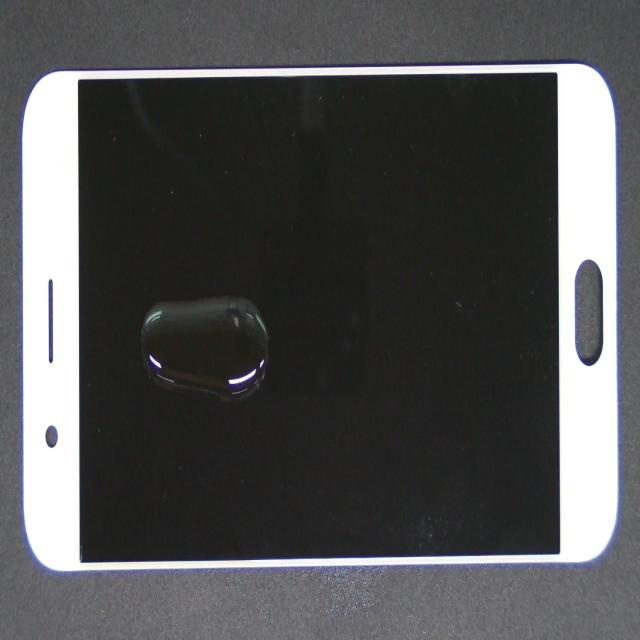oil: (148, 177, 392, 479)
